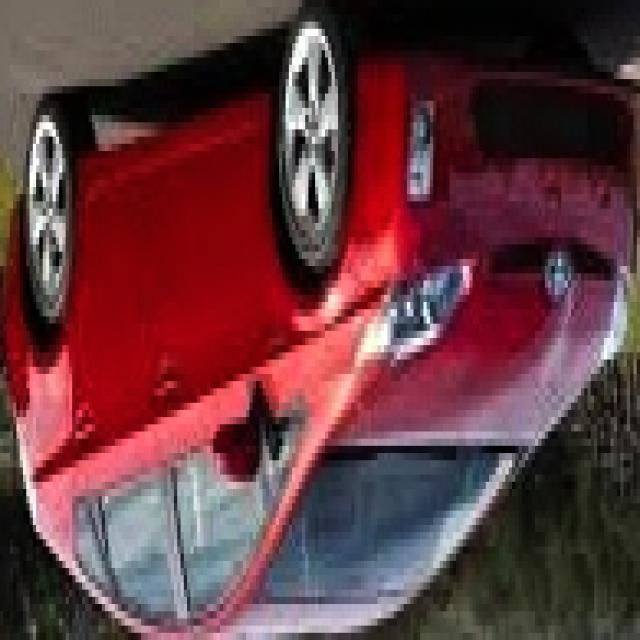red: (0, 36, 640, 632)
